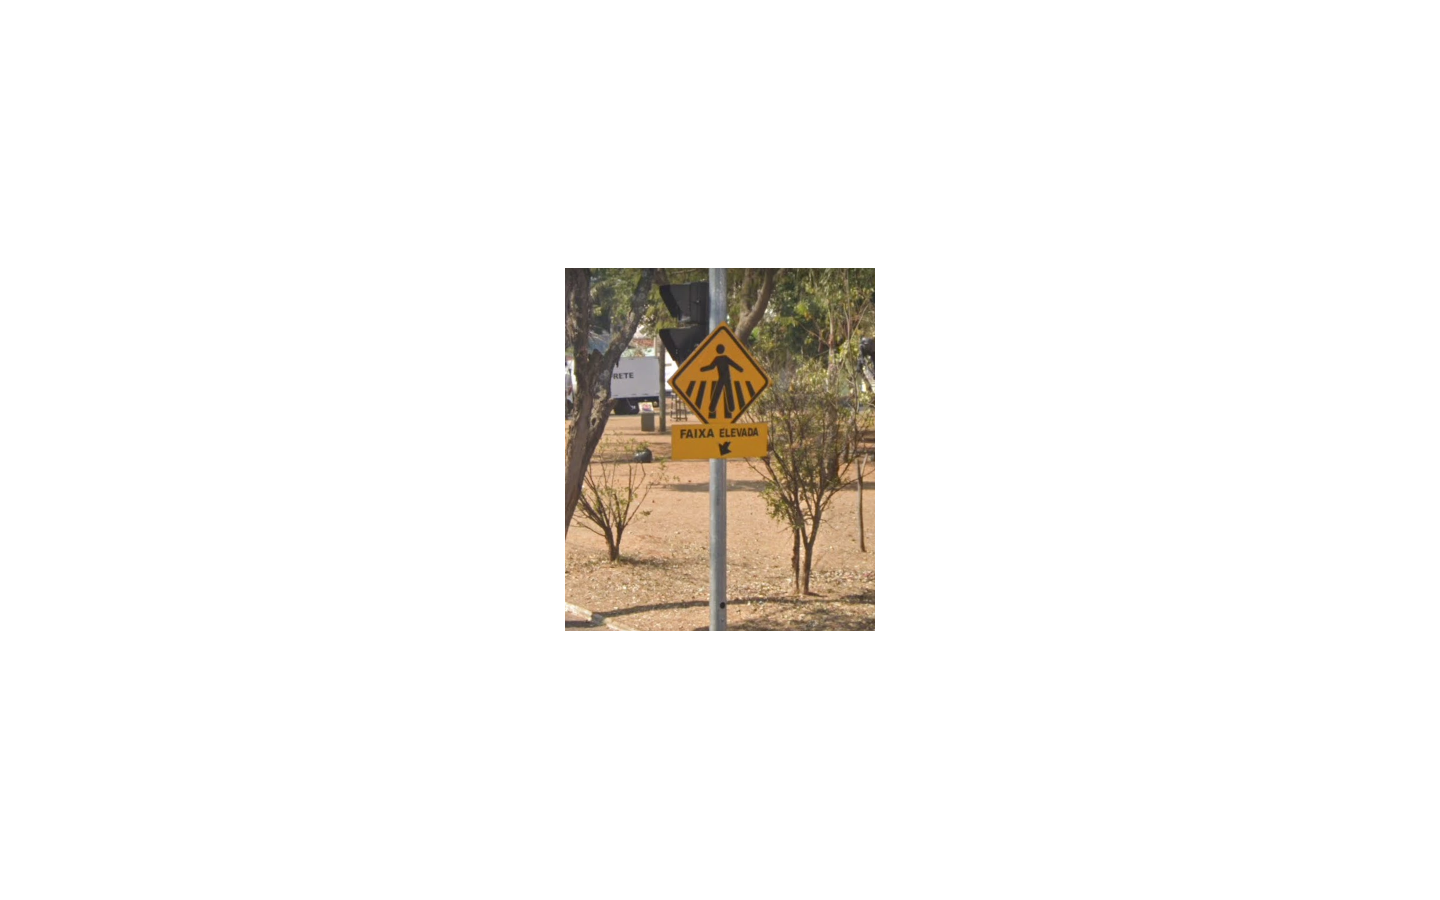telev: (668, 322, 771, 460)
